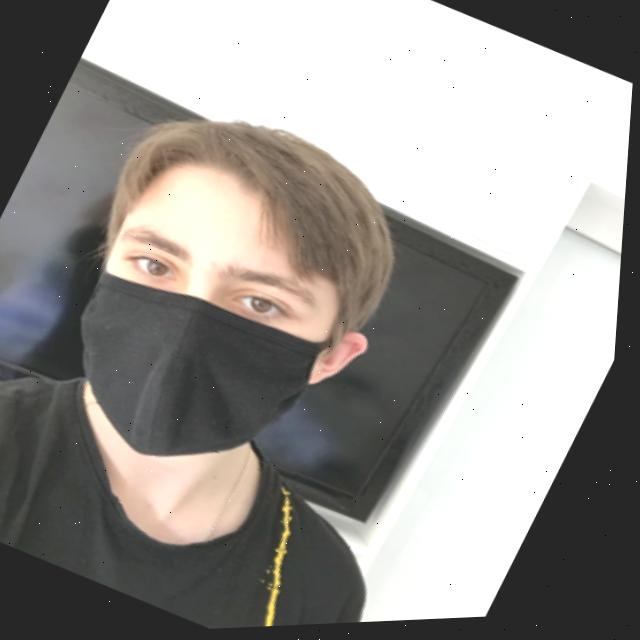Mask: (36, 237, 377, 518)
